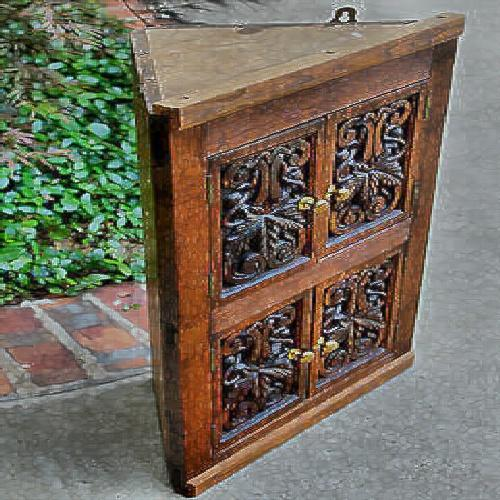cabinet: (137, 14, 446, 459)
